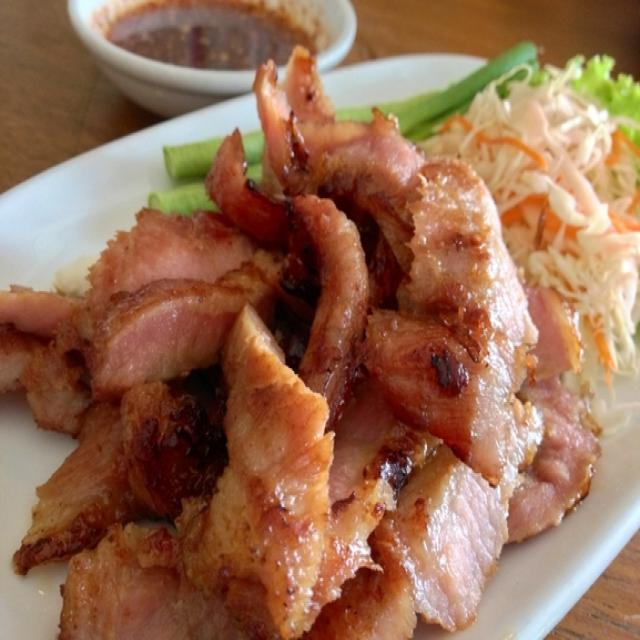猪肉菜式: (6, 18, 631, 625)
